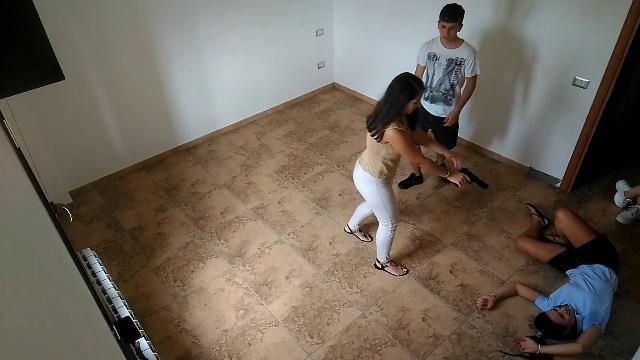non-violence: (474, 201, 622, 359), (396, 3, 482, 193)
violence: (342, 70, 488, 280)
weapon: (455, 166, 485, 190)
